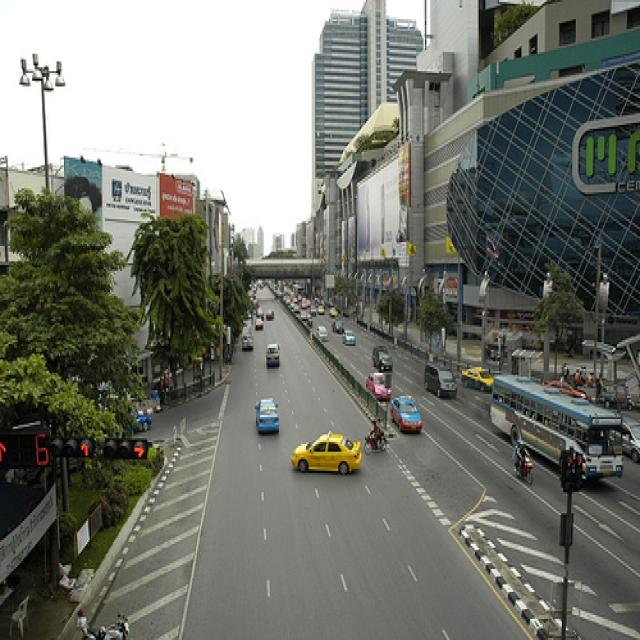motor: (513, 457, 534, 485), (363, 433, 387, 455)
